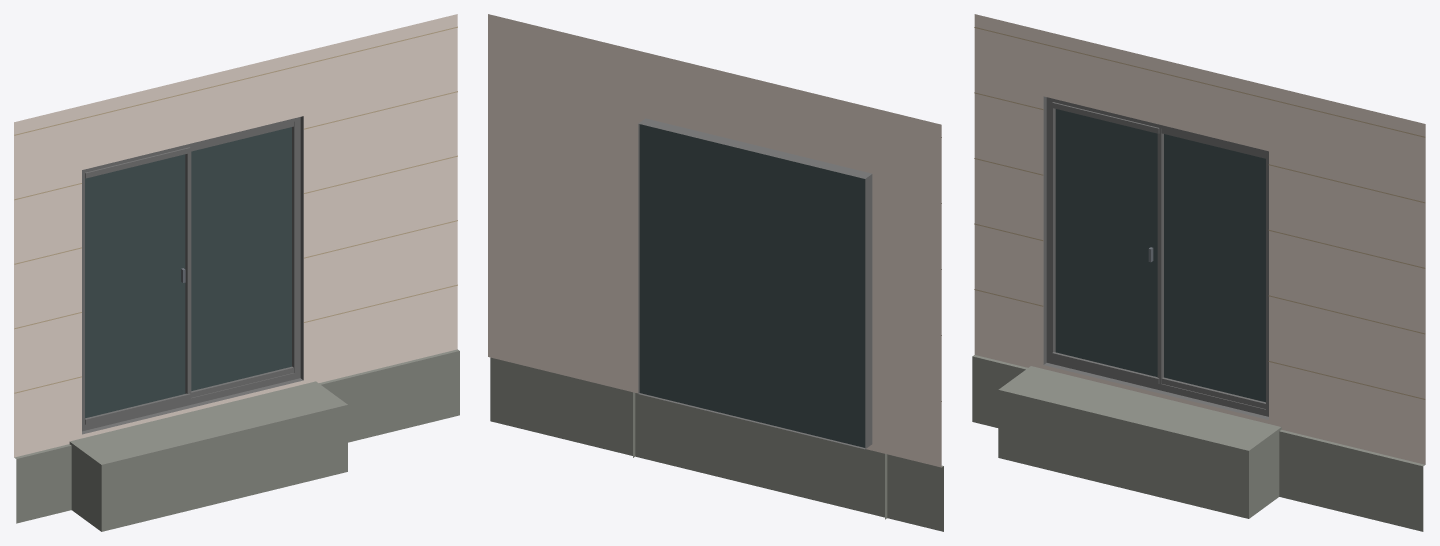
File: base-w1_close.fbx
The picture shows the model from 3 angles, left to right: view 1: azimuth 30°, elevation 25°; view 2: azimuth 150°, elevation 25°; view 3: azimuth 330°, elevation 25°; orthographic projection. The views are drawn at different scales.
Parts seen in each view (by area): view 1: a2001/200/base-w1_close; view 2: a2001/200/base-w1_close; view 3: a2001/200/base-w1_close.
Boxes of the visible parts, left/top/right/bottom form: a2001/200/base-w1_close: left=14, top=14, right=459, bottom=531; a2001/200/base-w1_close: left=488, top=14, right=943, bottom=531; a2001/200/base-w1_close: left=972, top=14, right=1425, bottom=531.
Bounding box in the file's own units: 3.6 × 3.1 × 0.55.
